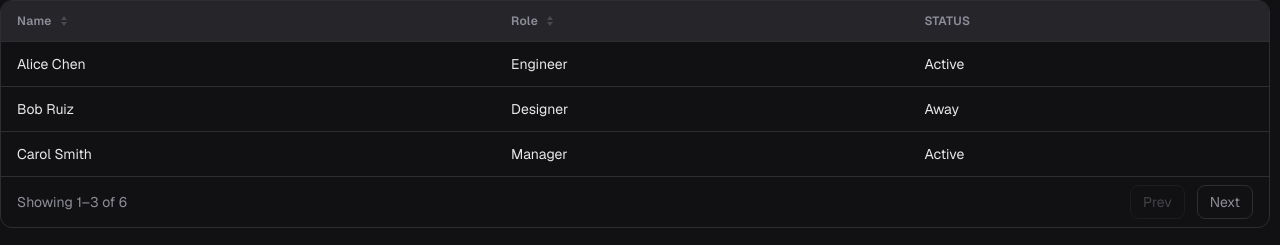
Test: DataTable › pagination › navigates back to previous page on Prev click
Click the button with aria-label "go to next page" at [1225, 202], box [1197,185,1253,219]
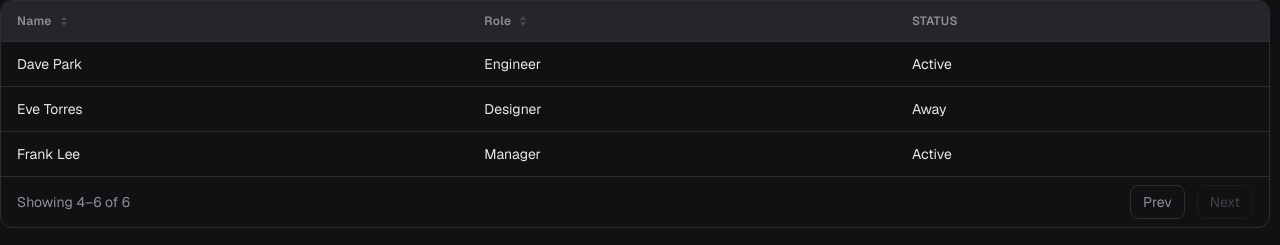
Click the button with aria-label "go to previous page" at [1157, 202], box [1130,185,1185,219]
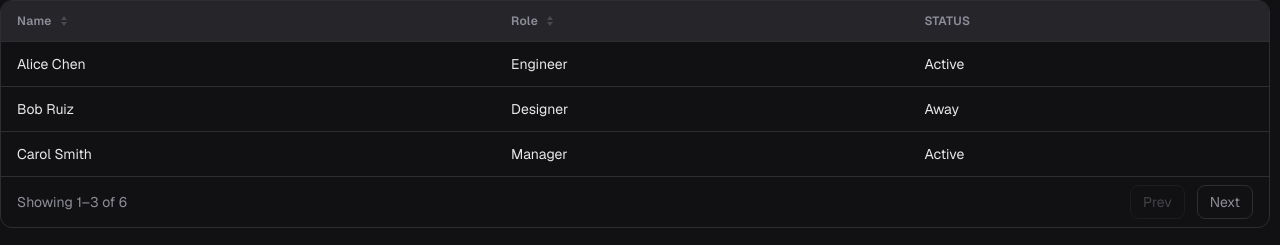
Expected: the text "Alice Chen" is shown, [1,42,495,86]
